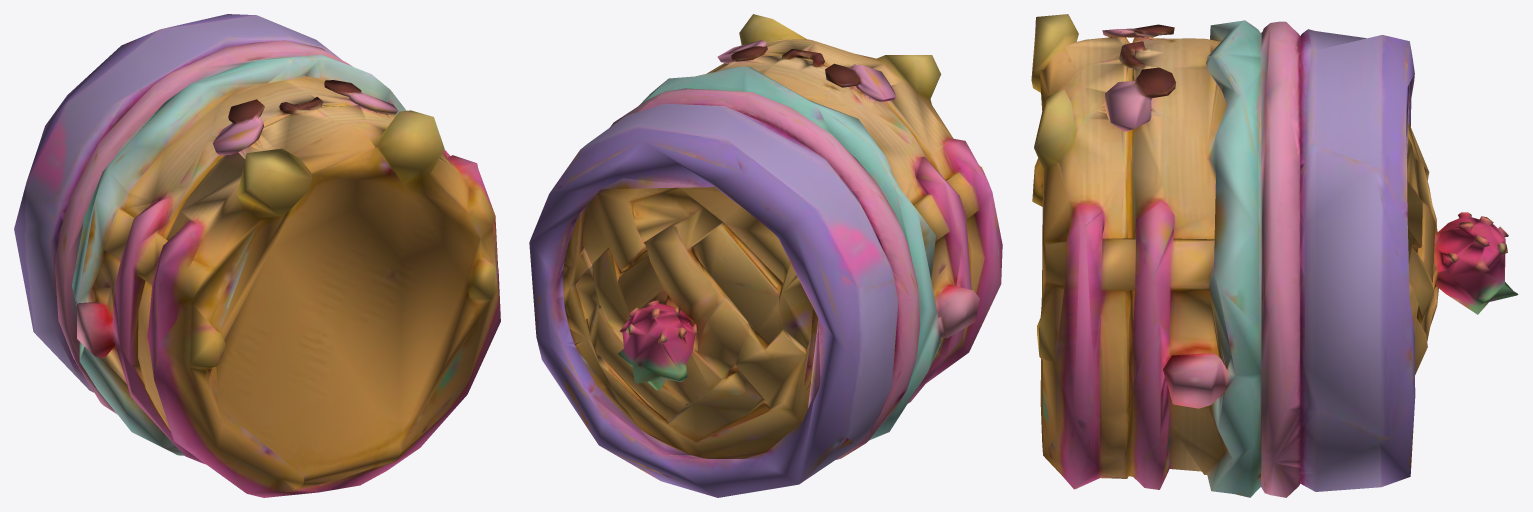
The picture shows the model from 3 angles, left to right: view 1: azimuth 30°, elevation 25°; view 2: azimuth 150°, elevation 25°; view 3: azimuth 270°, elevation 25°; orthographic projection. The views are drawn at different scales.
Visible parts, largest first — view 1: material; view 2: material; view 3: material.
Part boxes in pixels (<box>): material: <box>14,14,500,497</box>; material: <box>529,14,1002,497</box>; material: <box>1031,14,1518,497</box>.
Size of the model in its own units: 1 by 0.9371 by 0.9495.
1 material, 1 textured.
